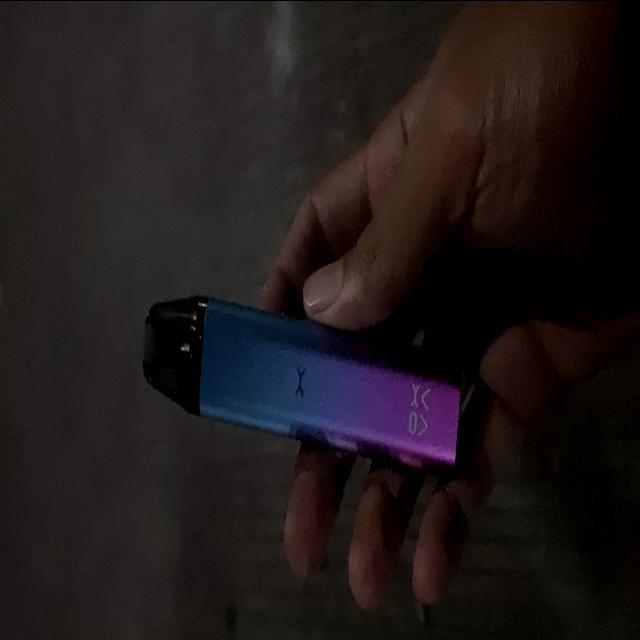Hazard: (143, 294, 462, 480)
